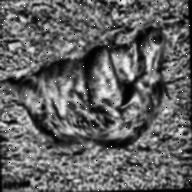boar: (0, 30, 184, 164)
